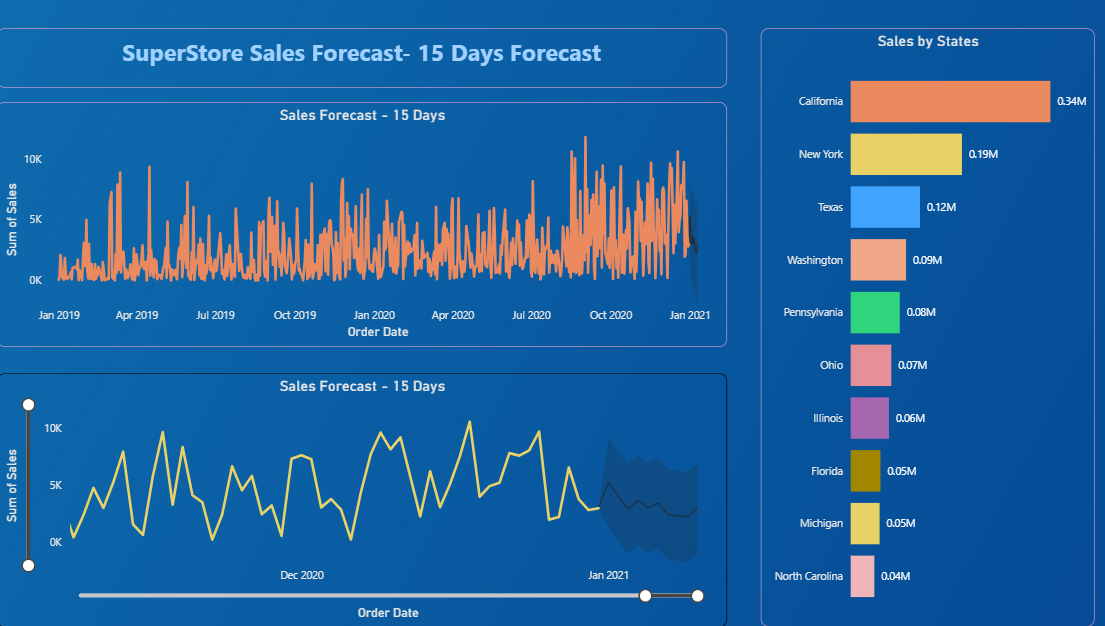

The dashboard page shown, as its layout file describes it:
{"tool":"powerbi","page":{"name":"Page 2","canvas":[1280,720],"ordinal":1},"visuals":[{"type":"lineChart","title":"Sales Forecast - 15 Days","fields":{"Y":["Sum(Sheet1 (2).Sales)"],"Category":["Sheet1 (2).Order Date"]},"box":[0,120,834,280],"z":0},{"type":"lineChart","title":"Sales Forecast - 15 Days","fields":{"Y":["Sum(Sheet1 (2).Sales)"],"Category":["Sheet1 (2).Order Date"]},"box":[0,430,834,290],"z":1000},{"type":"clusteredBarChart","title":"Sales by States","fields":{"Y":["Sum(Sheet1 (2).Sales)"],"Category":["Sheet1 (2).State"]},"box":[872.9,35.7,381.4,684.3],"z":2000},{"type":"textbox","box":[0,36,834,68],"z":3000}]}

Visuals, with their boxes in screenshot pixels (x1, y1, x2, y2), scaled from the page's 1280x720 canvas onto the 1105x626 screenshot:
"Sales Forecast - 15 Days" lineChart: pyautogui.locateOnScreen(0, 104, 720, 348)
"Sales Forecast - 15 Days" lineChart: pyautogui.locateOnScreen(0, 374, 720, 625)
"Sales by States" clusteredBarChart: pyautogui.locateOnScreen(754, 31, 1083, 625)
textbox: pyautogui.locateOnScreen(0, 31, 720, 90)
